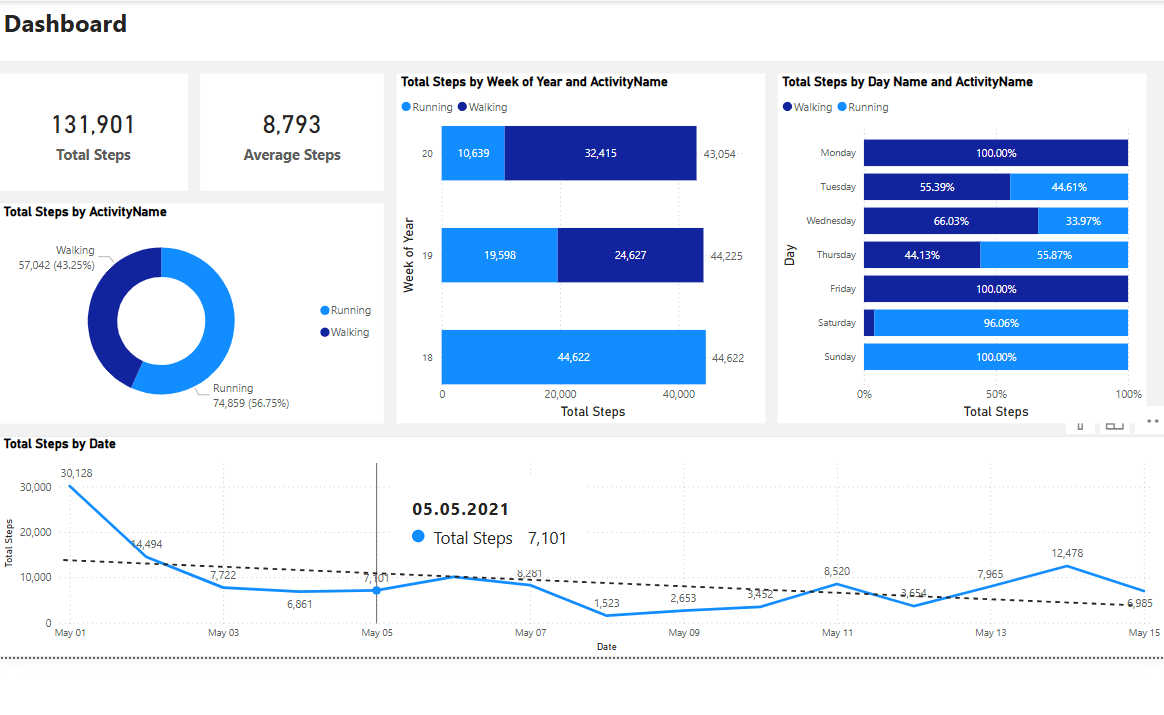

The page's visual inventory and layout, read from the dashboard file:
{"tool":"powerbi","page":{"name":"Page 1","canvas":[1280,720],"ordinal":0},"visuals":[{"type":"textbox","box":[0,0,1280.3,65.9],"z":0},{"type":"card","fields":{"Values":["Basic Calculations.Total Steps"]},"box":[0,79.6,207.2,129],"z":1000},{"type":"card","fields":{"Values":["Basic Calculations.Average Steps"]},"box":[220.9,79.6,201.7,129],"z":2000},{"type":"donutChart","fields":{"Y":["Basic Calculations.Total Steps"],"Category":["DIM_Activity.ActivityName"]},"box":[0,222.3,422.6,241.5],"z":3000},{"type":"lineChart","fields":{"Y":["Basic Calculations.Total Steps"],"Category":["FACT_Activity.Date"]},"box":[0,477.1,1280,242.9],"z":4000},{"type":"barChart","fields":{"Y":["Basic Calculations.Total Steps"],"Category":["DIM_Date.Week of Year"],"Series":["DIM_Activity.ActivityName"]},"box":[436.4,79.6,404.8,384.2],"z":5000},{"type":"hundredPercentStackedBarChart","fields":{"Y":["Basic Calculations.Total Steps"],"Category":["DIM_Date.Day Name"],"Series":["DIM_Activity.ActivityName"]},"box":[854.9,79.6,404.8,384.2],"z":6000}]}

Visuals, with their boxes on the page's 1280x720 design canvas (x1, y1, x2, y2). These are canvas units, not pixel positions in the 1164x715 screenshot, which may show the page scaled, cropped or inside an application window:
textbox: BBox(0, 0, 1280, 66)
card - Basic Calculations.Total Steps: BBox(0, 80, 207, 209)
card - Basic Calculations.Average Steps: BBox(221, 80, 423, 209)
donutChart - Basic Calculations.Total Steps x DIM_Activity.ActivityName: BBox(0, 222, 423, 464)
lineChart - Basic Calculations.Total Steps x FACT_Activity.Date: BBox(0, 477, 1280, 720)
barChart - Basic Calculations.Total Steps x DIM_Date.Week of Year: BBox(436, 80, 841, 464)
hundredPercentStackedBarChart - Basic Calculations.Total Steps x DIM_Date.Day Name: BBox(855, 80, 1260, 464)
